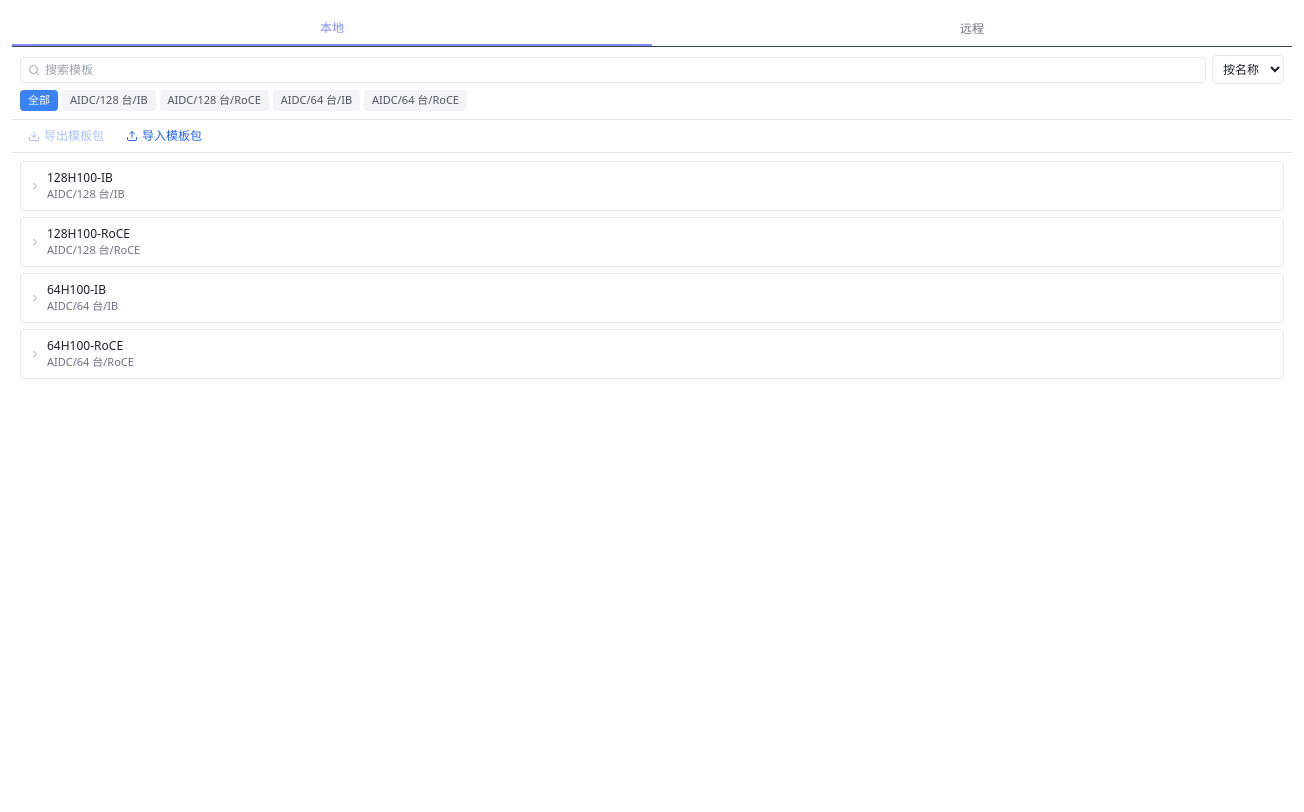
4.9.0 模板中心展示 AIDC 示例 › 展开卡片显示描述（description）
The width and height of the screenshot is (1304, 812).
Click the text "64H100-IB": [76, 290] box top-left (47, 282), bottom-right (106, 298)
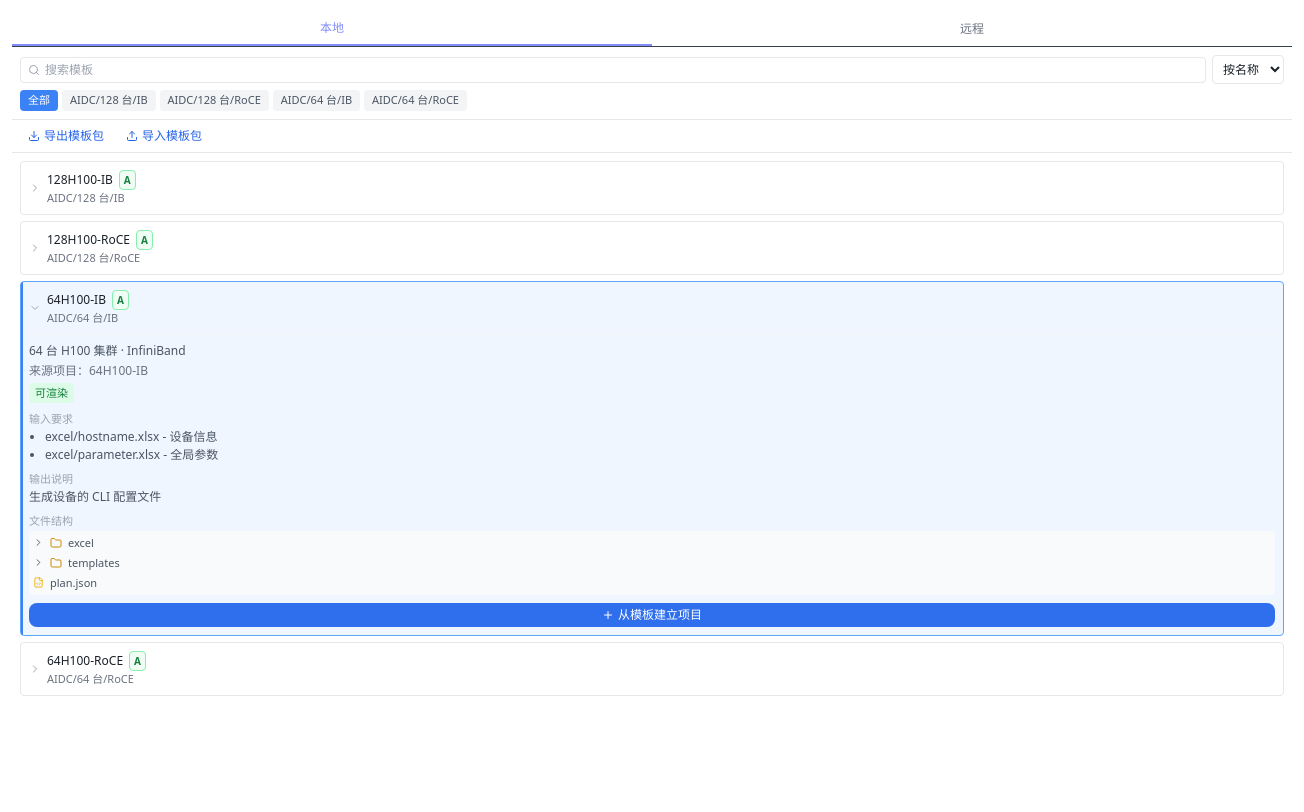
Now the text "64 台 H100 集群 · InfiniBand" is shown, box top-left (29, 342), bottom-right (186, 358)
